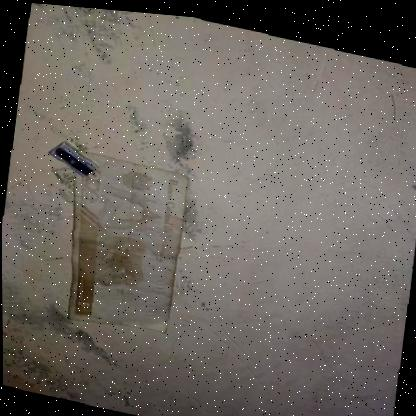vef_back: (55, 147, 190, 339)
